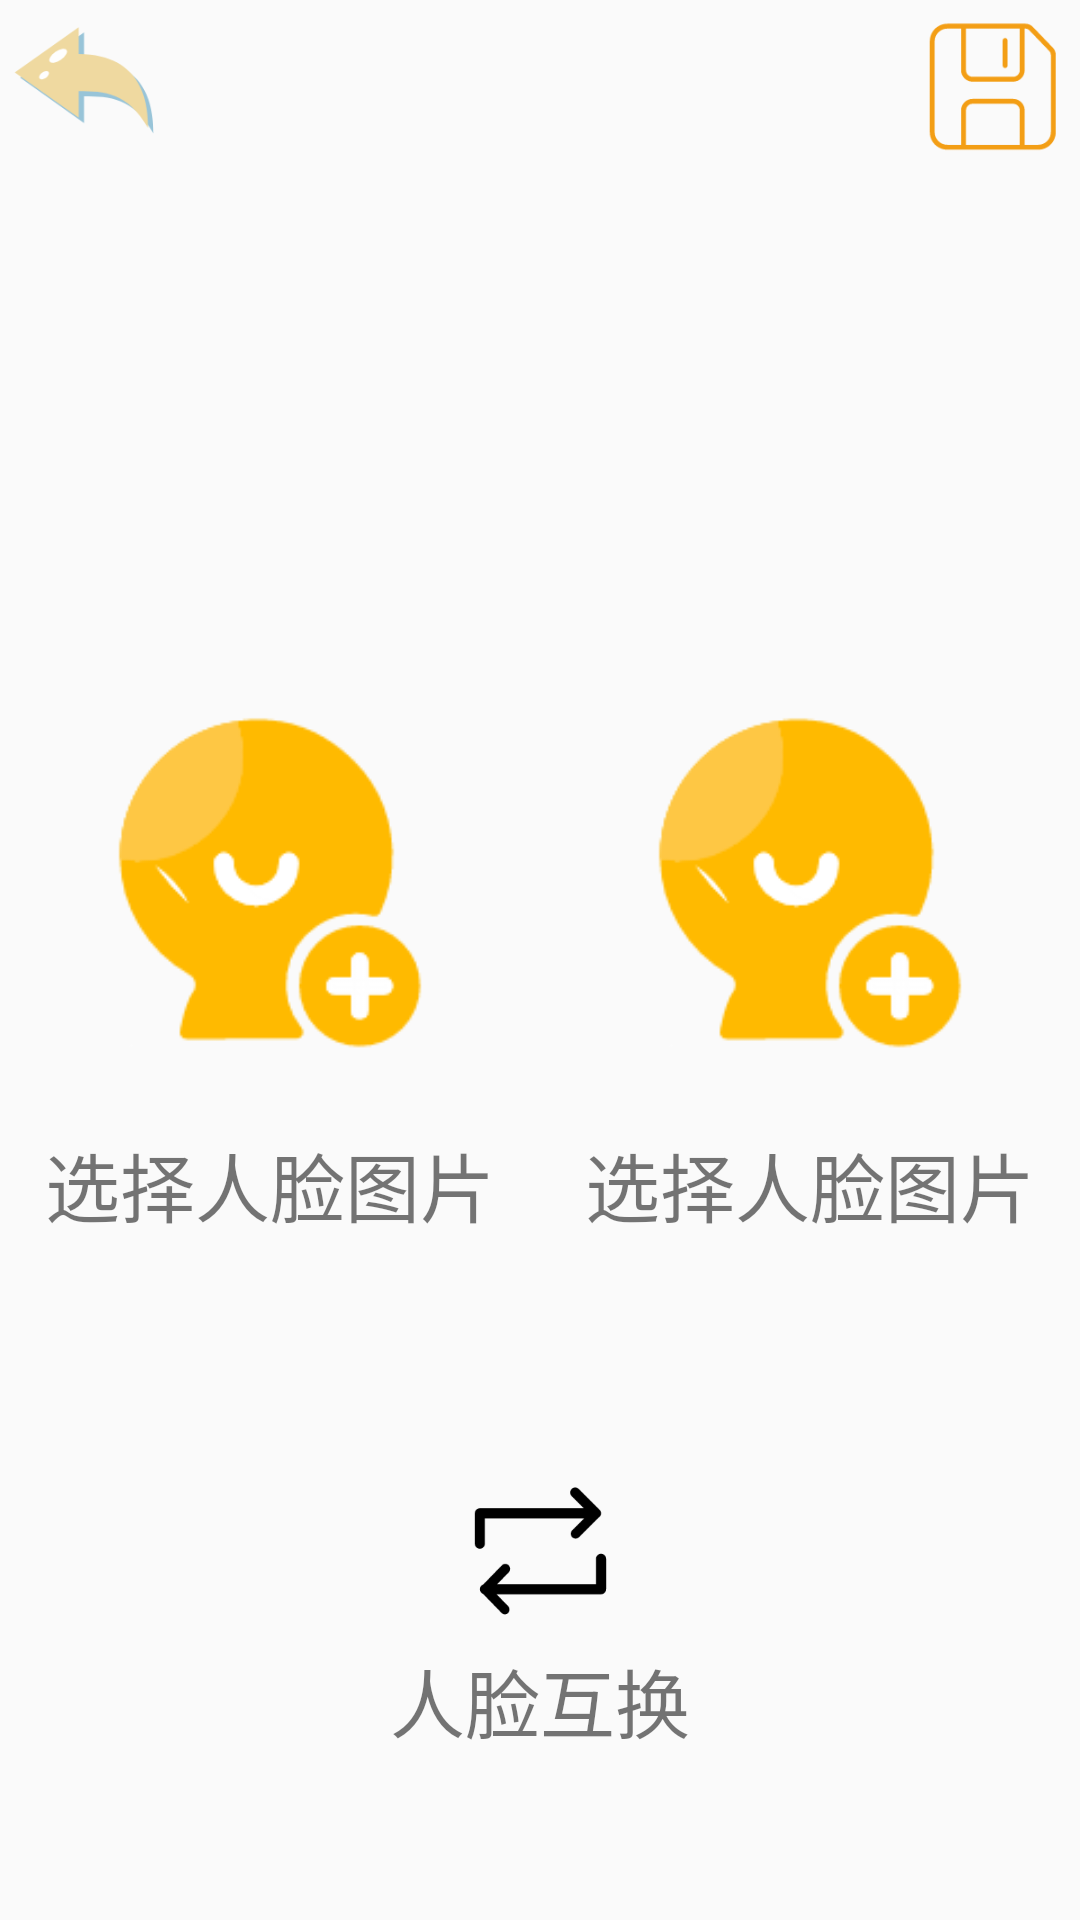

Icon click points for this 1080 × 1920 phone screenshot, format point (x, y):
addface: point (270, 883), point (810, 883)
back: point (84, 80)
changeface: point (540, 1551)
save: point (992, 86)
